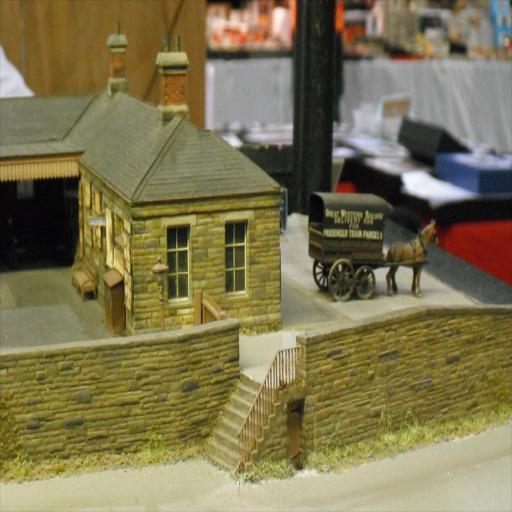horse: (386, 215, 442, 297)
